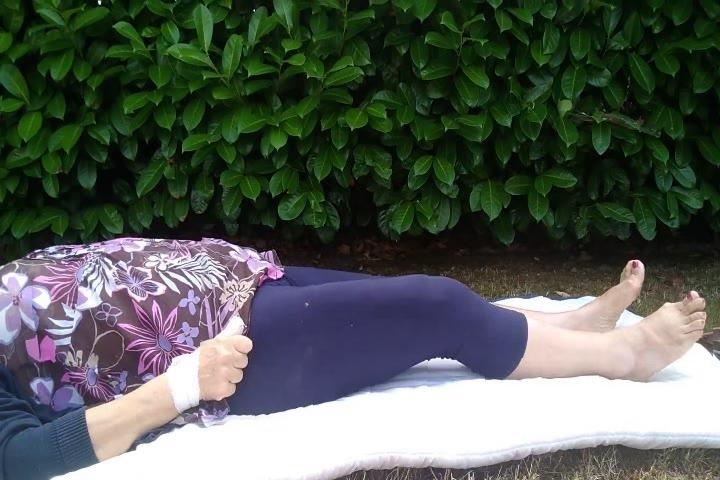lowerbody: (200, 227, 715, 431)
